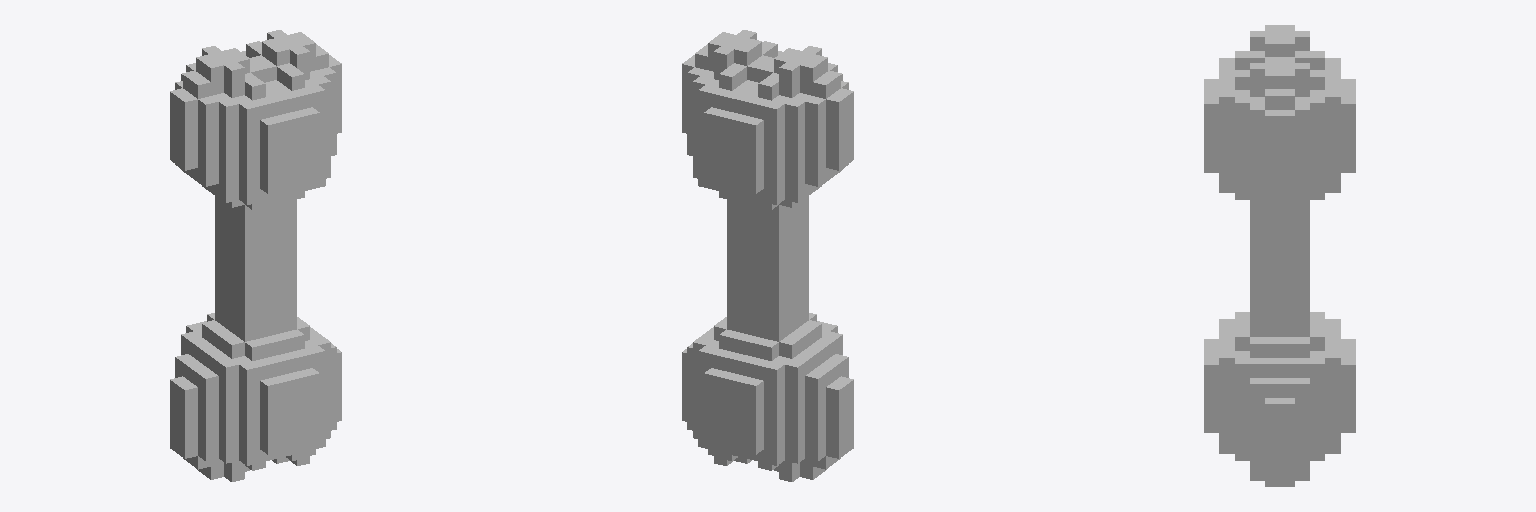
The model's file is Bone.obj.
3 views of the same model, side by side, from view 1: azimuth 30°, elevation 25°; view 2: azimuth 150°, elevation 25°; view 3: azimuth 270°, elevation 25° (orthographic).
Parts seen in each view (by area): view 1: object 1; view 2: object 1; view 3: object 1.
Part boxes in pixels (x1,y1,x2,y2): object 1: (170, 30, 341, 481); object 1: (682, 30, 853, 481); object 1: (1204, 25, 1355, 486).
Bounding box in the file's own units: 1.2 × 3 × 1.